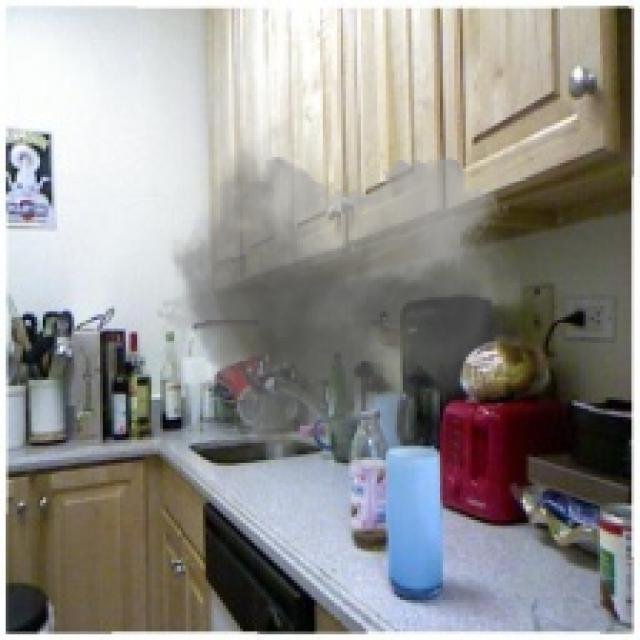smoke: (143, 71, 523, 492)
